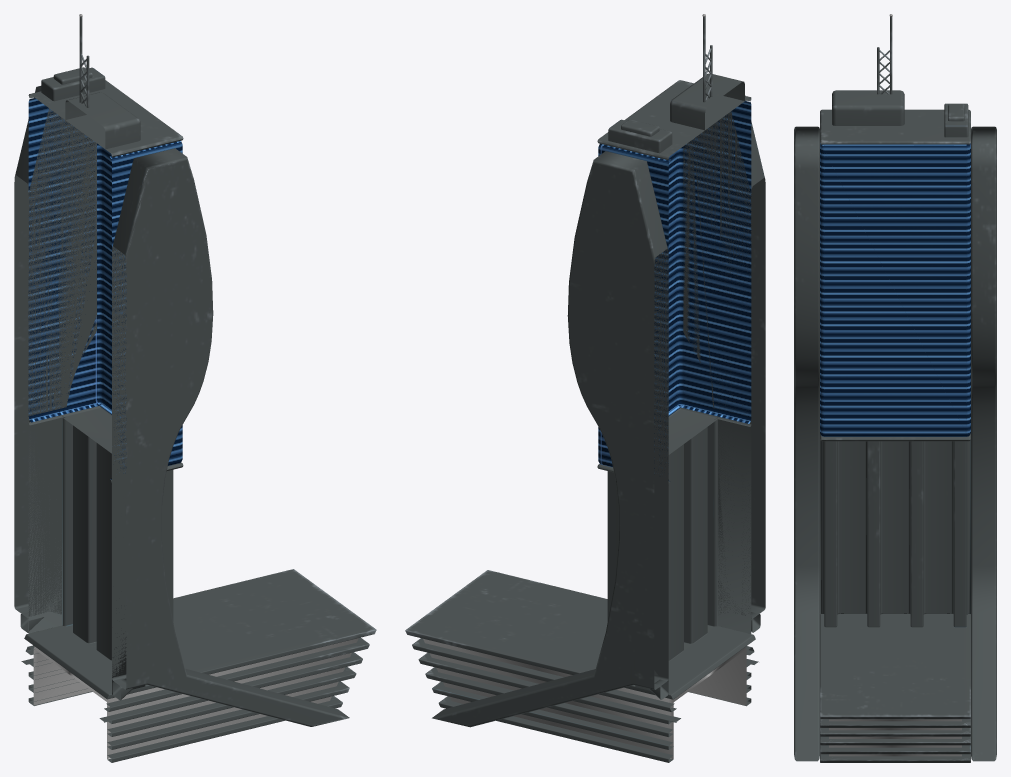
Rendered from Building_15.fbx.
3 renders of one model, left to right at view 1: azimuth 30°, elevation 25°; view 2: azimuth 150°, elevation 25°; view 3: azimuth 270°, elevation 25°, orthographic. The views are drawn at different scales.
Parts seen in each view (by area): view 1: b_15_01, b_15_03, b_15_02; view 2: b_15_01, b_15_03, b_15_02; view 3: b_15_01, b_15_03, b_15_02.
Boxes of the visible parts, box(x1,y1,x2,y2) form: b_15_01: box(14, 17, 376, 762); b_15_03: box(28, 98, 182, 479); b_15_02: box(33, 14, 358, 758); b_15_01: box(405, 17, 765, 762); b_15_03: box(598, 101, 751, 481); b_15_02: box(423, 14, 746, 758); b_15_01: box(794, 16, 996, 762); b_15_03: box(820, 143, 970, 436); b_15_02: box(829, 14, 961, 756).
Size of the model in its own units: 14.35 by 36.1 by 10.18.
Materials: 3 (2 with a texture image).
